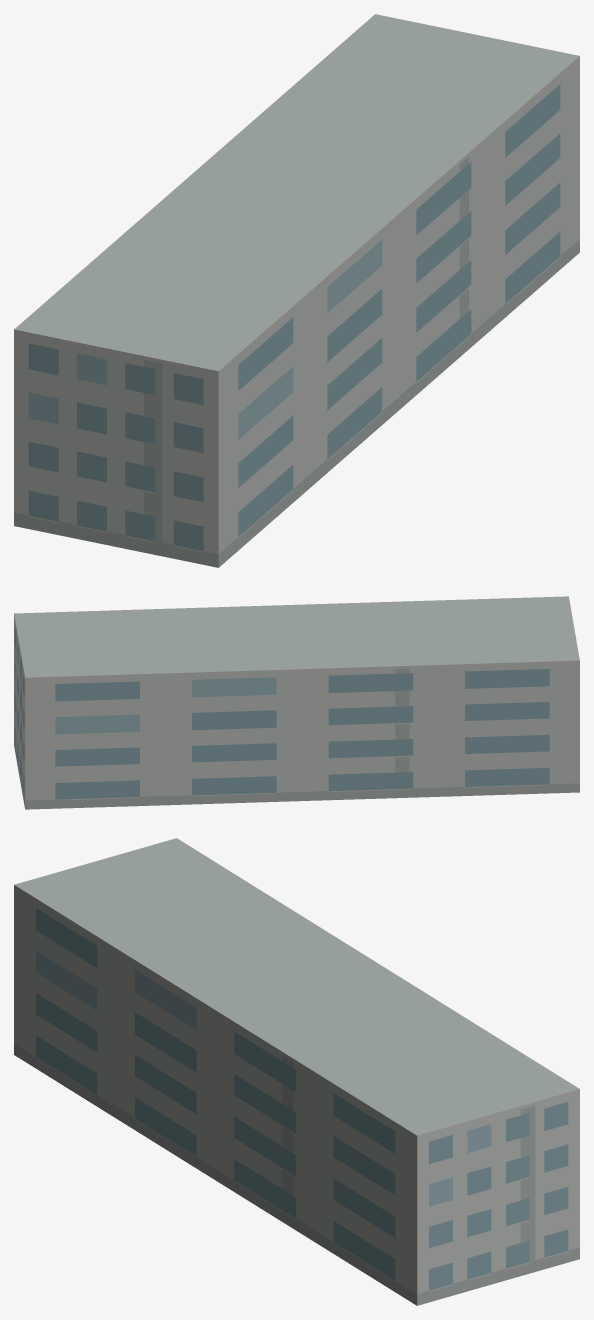
File: residential-55b924cb-c97d-4c69-9988-cdc48b6b40fd.glb
3 renders of one model, top to bottom at view 1: azimuth 30°, elevation 25°; view 2: azimuth 150°, elevation 25°; view 3: azimuth 270°, elevation 25°, orthographic. The views are drawn at different scales.
Visible parts, largest first — view 1: residential-55b924cb-c97d-4c69-9988-cdc48b6b40fd.tmp; view 2: residential-55b924cb-c97d-4c69-9988-cdc48b6b40fd.tmp; view 3: residential-55b924cb-c97d-4c69-9988-cdc48b6b40fd.tmp.
Part boxes in pixels (left/top/right/bottom): residential-55b924cb-c97d-4c69-9988-cdc48b6b40fd.tmp: left=14, top=14, right=579, bottom=567; residential-55b924cb-c97d-4c69-9988-cdc48b6b40fd.tmp: left=14, top=596, right=579, bottom=809; residential-55b924cb-c97d-4c69-9988-cdc48b6b40fd.tmp: left=14, top=838, right=579, bottom=1305.
Size of the model in its own units: 45.78 by 12.2 by 36.78.
